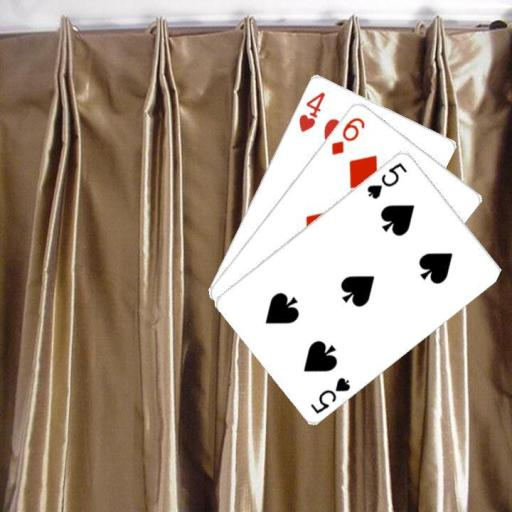4H: (295, 88, 327, 134)
5S: (363, 159, 409, 201), (307, 374, 353, 415)
6D: (328, 113, 367, 157)
